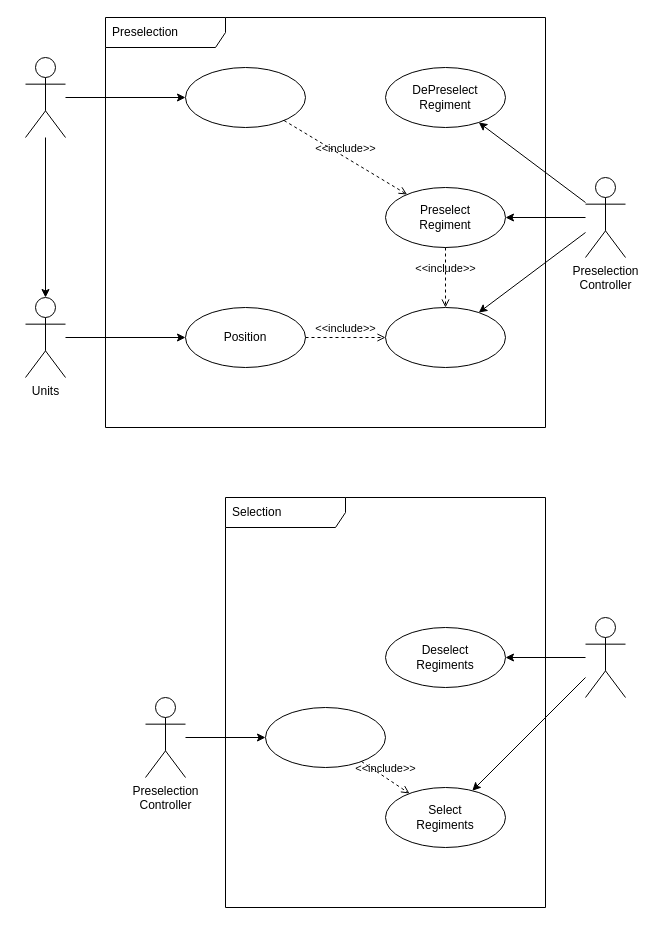
The diagram is 656 pixels wide and 925 high, and some of its shapes have lost their labels. Each missing label, with the centre of its shape:
"Check Mouse Hover Units" goes at [445,337].
"Regiments" goes at [45,97].
"Regiments Preselected" goes at [325,737].
"Selection Controller" goes at [605,657].
"Units attached to Regiment" goes at [245,97].
